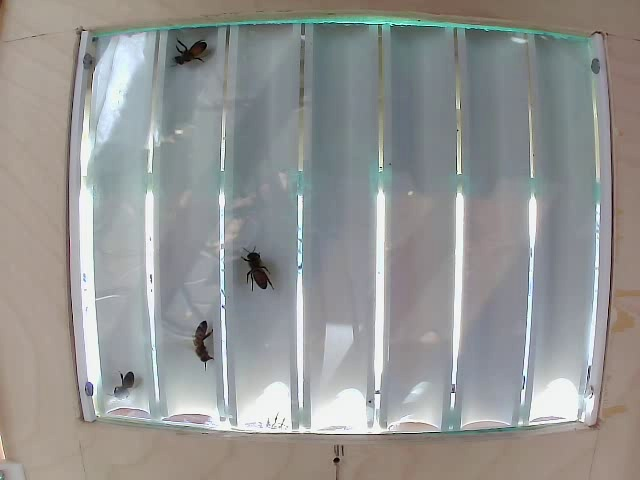bee: (237, 234, 282, 304), (181, 319, 228, 371), (95, 368, 147, 403), (172, 38, 218, 67)
